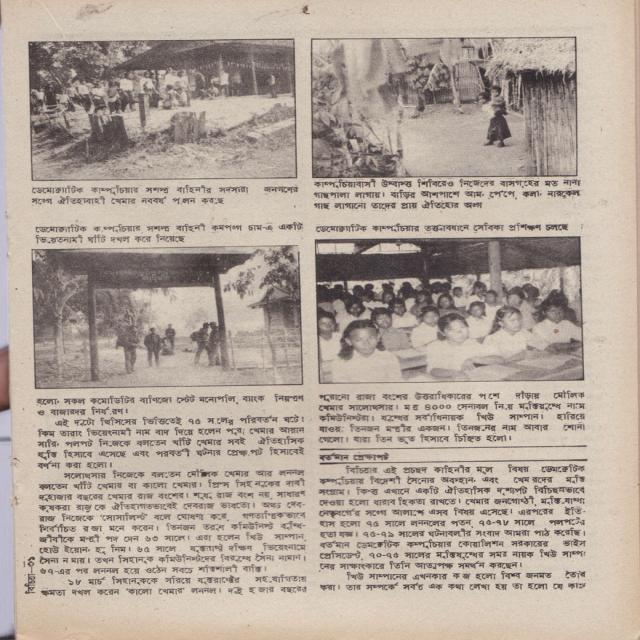caption: (312, 178, 585, 211), (30, 221, 306, 246), (24, 184, 303, 207), (315, 220, 571, 235)
image: (314, 235, 586, 386), (30, 244, 304, 390), (26, 38, 298, 182), (310, 36, 578, 179)
page number: (26, 555, 36, 567)
paragraph: (37, 468, 308, 578), (316, 463, 587, 572), (32, 413, 307, 472), (316, 388, 588, 446), (32, 392, 308, 420), (316, 566, 592, 594), (38, 573, 310, 598)
text: (317, 452, 392, 463), (23, 567, 38, 595)
